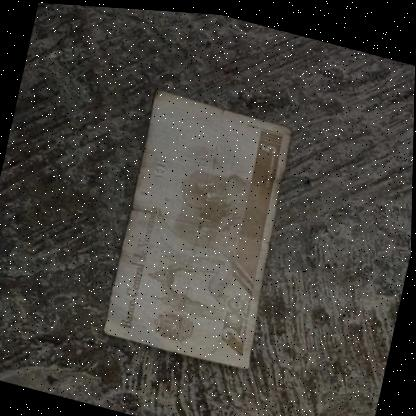five-back-vef: (102, 83, 304, 371)
